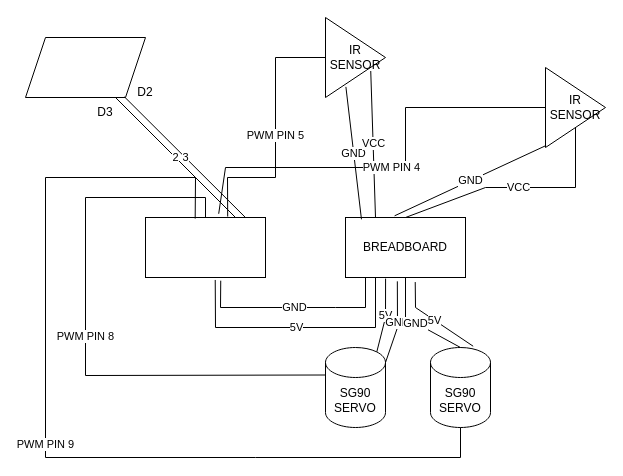
Image size: 623x476. Some labels were removed from this diagram. The box of each missing label's shape, as (x1, y1, x2, y2) in pixels:
ARDUINO UNO: (144, 216, 266, 278)
ESP8266 V3: (24, 36, 146, 98)
